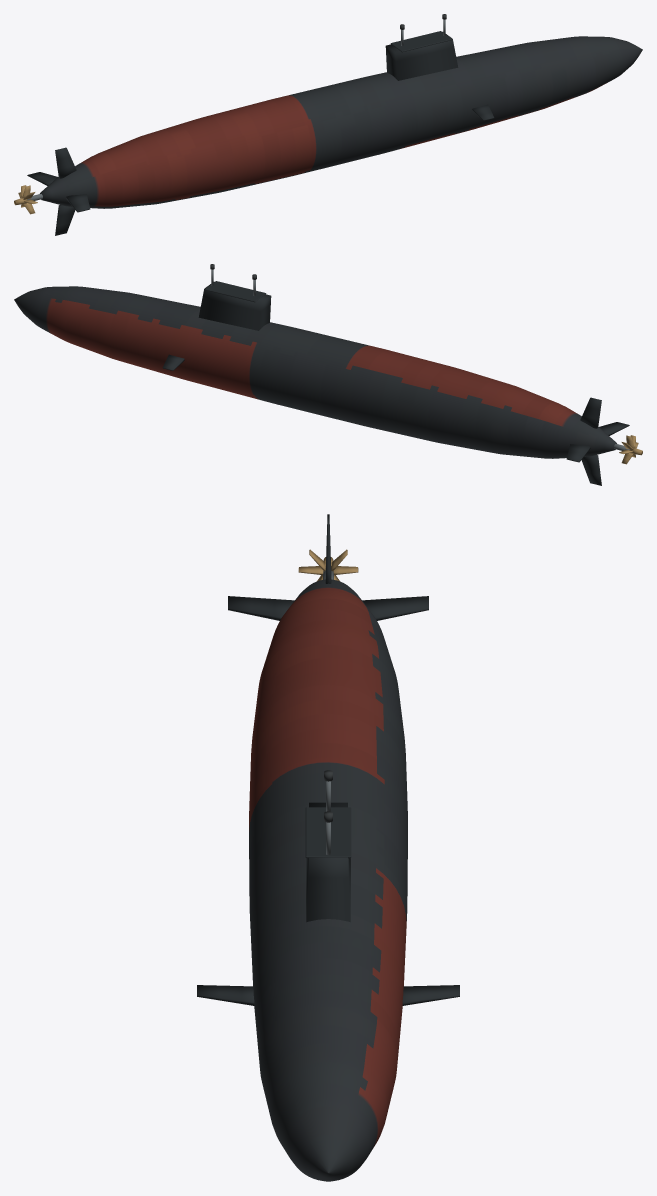
The model's file is UK_SSN_Trafalgar.glb.
The picture shows the model from 3 angles, top to bottom: view 1: azimuth 30°, elevation 25°; view 2: azimuth 150°, elevation 25°; view 3: azimuth 270°, elevation 25°; orthographic projection. The views are drawn at different scales.
Parts seen in each view (by area): view 1: UK_SSN_Trafalgar_LOD0; view 2: UK_SSN_Trafalgar_LOD0; view 3: UK_SSN_Trafalgar_LOD0.
Boxes of the visible parts, <box> form: UK_SSN_Trafalgar_LOD0: <box>14,14,642,235</box>; UK_SSN_Trafalgar_LOD0: <box>14,264,642,485</box>; UK_SSN_Trafalgar_LOD0: <box>197,514,459,1181</box>.
Size of the model in its own units: 89.15 by 17.07 by 16.15.
6 materials, 1 textured.
